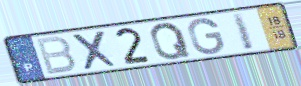2: (115, 27, 152, 66)
B: (33, 35, 78, 76)
G: (186, 16, 226, 56)
I: (230, 11, 257, 52)
Q: (149, 21, 193, 62)
X: (69, 29, 120, 72)
